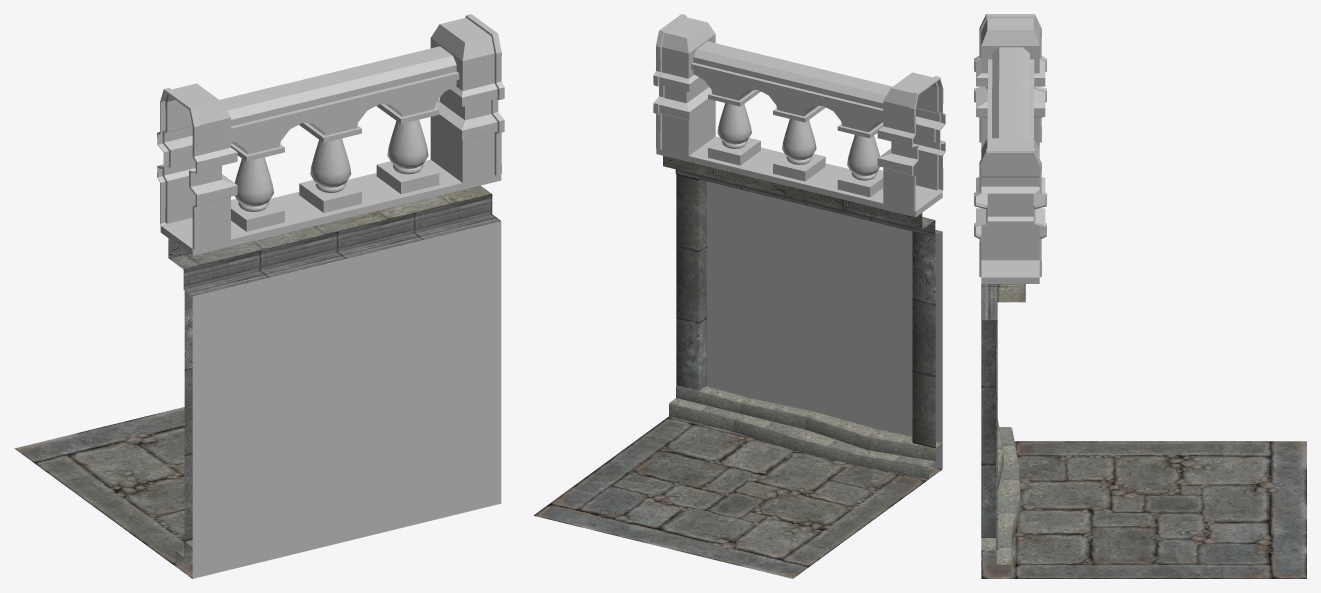
Rendered from UnderWall1.FBX.
3 renders of one model, left to right at view 1: azimuth 30°, elevation 25°; view 2: azimuth 150°, elevation 25°; view 3: azimuth 270°, elevation 25°, orthographic. The views are drawn at different scales.
Parts seen in each view (by area): view 1: Box07; view 2: Box07; view 3: Box07.
Boxes of the visible parts, x1,y1,x2,y2 form: Box07: (14, 14, 504, 578); Box07: (534, 14, 945, 578); Box07: (974, 14, 1306, 578).
Bounding box in the file's own units: 500 × 725 × 511.
